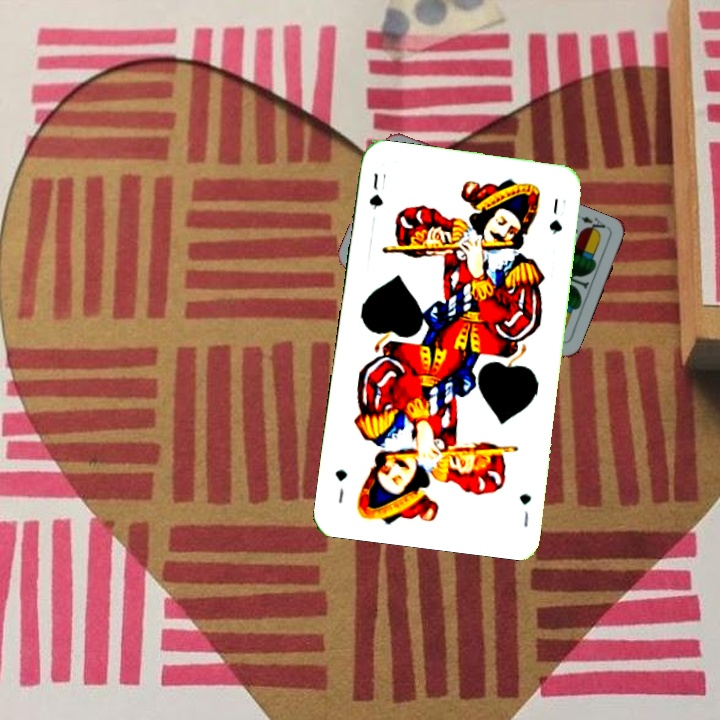EA: (577, 212, 611, 237)
GU: (365, 169, 386, 212), (515, 489, 534, 530)
